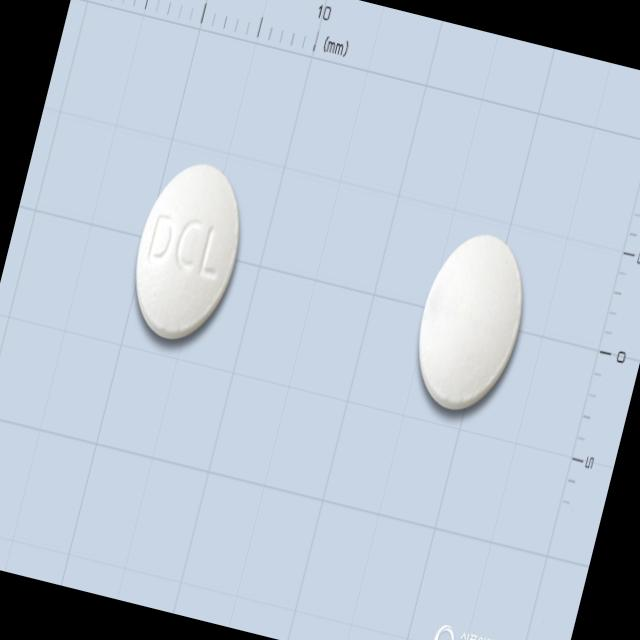Dongkoo Levofloxacin Hydrate Tab: (117, 150, 258, 352)
